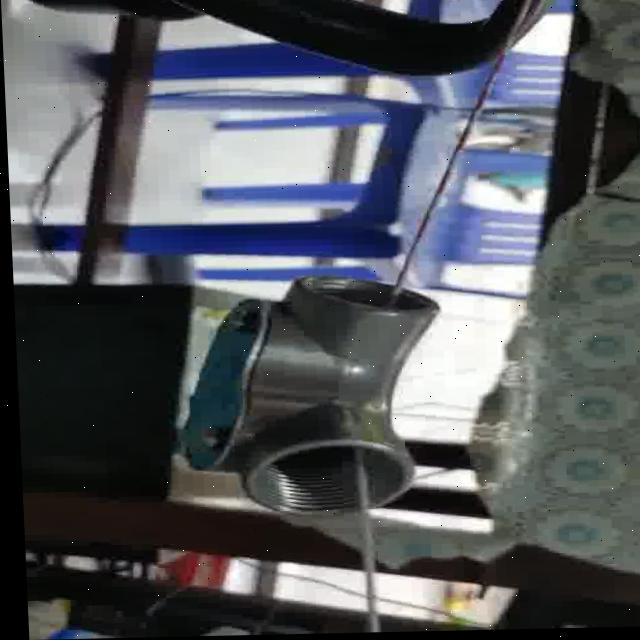Dry: (167, 272, 434, 520)
